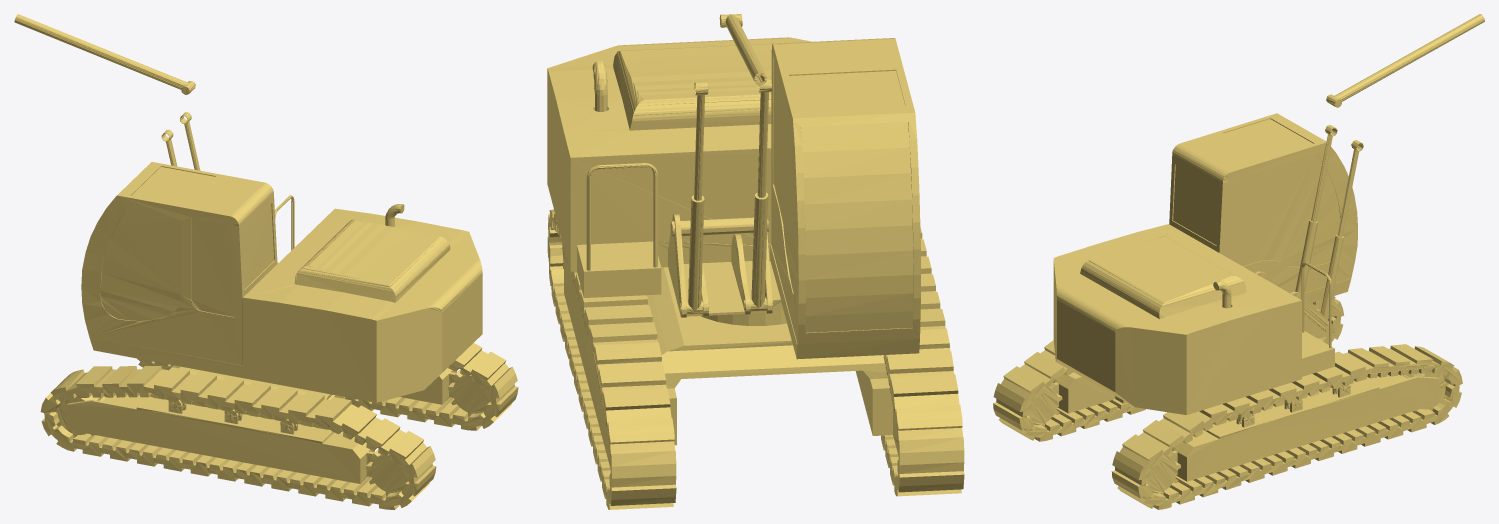
File: excavator_candidate.glb
The picture shows the model from 3 angles, left to right: view 1: azimuth 30°, elevation 25°; view 2: azimuth 150°, elevation 25°; view 3: azimuth 270°, elevation 25°; orthographic projection. The views are drawn at different scales.
Parts seen in each view (by area): view 1: world; view 2: world; view 3: world.
Part boxes in pixels (x1,y1,x2,y2): world: (14, 14, 518, 509); world: (547, 14, 964, 509); world: (993, 14, 1484, 509).
Size of the model in its own units: 4.87 by 4.28 by 5.49.
